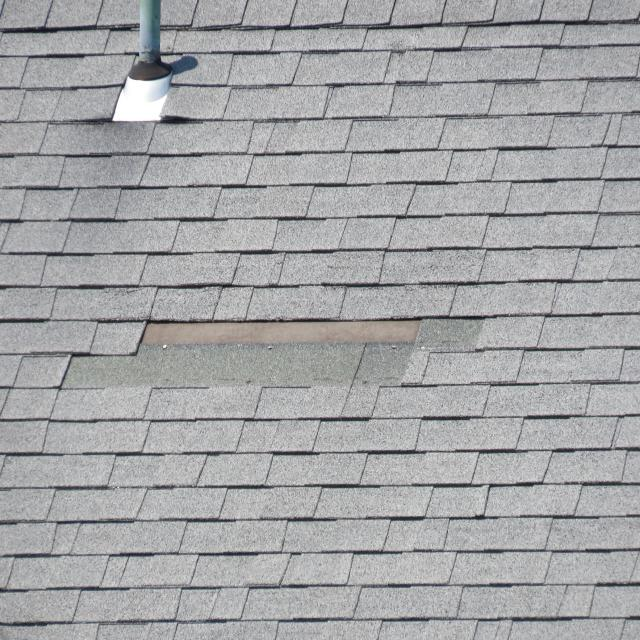damage: (53, 315, 500, 394)
